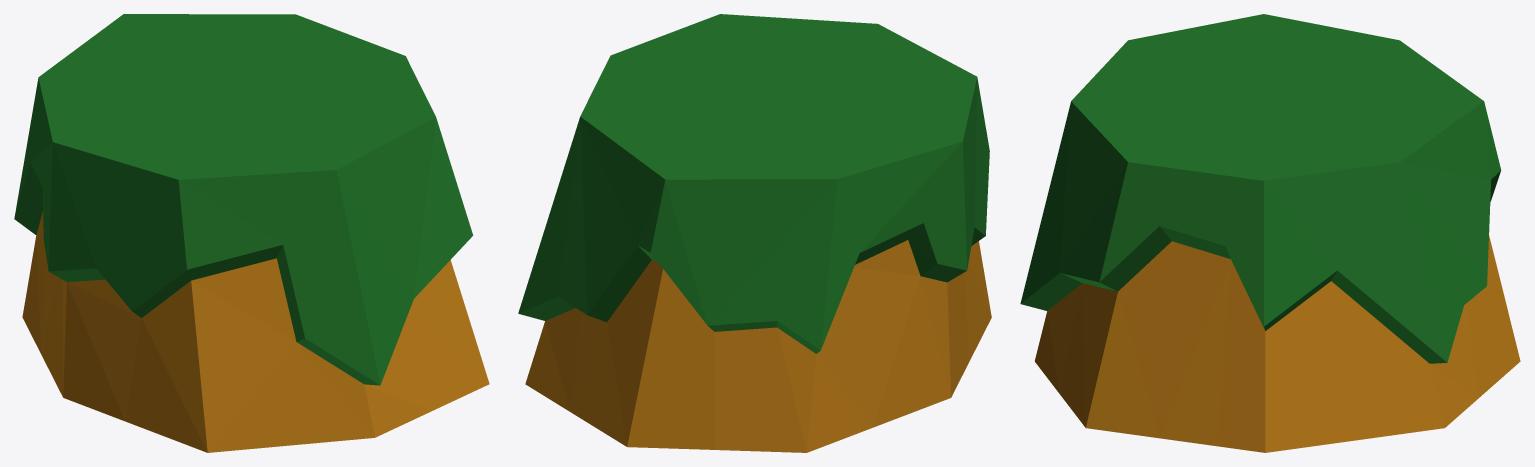
Rendered from building_02.FBX.
The picture shows the model from 3 angles, left to right: view 1: azimuth 30°, elevation 25°; view 2: azimuth 150°, elevation 25°; view 3: azimuth 270°, elevation 25°; orthographic projection. The views are drawn at different scales.
Parts seen in each view (by area): view 1: building_02_01, building_02_2; view 2: building_02_01, building_02_2; view 3: building_02_01, building_02_2.
Part boxes in pixels (left/top/right/bottom): building_02_01: left=14, top=14, right=473, bottom=385; building_02_2: left=22, top=211, right=489, bottom=452; building_02_01: left=518, top=14, right=989, bottom=353; building_02_2: left=525, top=240, right=991, bottom=452; building_02_01: left=1020, top=14, right=1501, bottom=363; building_02_2: left=1034, top=235, right=1520, bottom=452.
Size of the model in its own units: 1184 by 730 by 1318.
